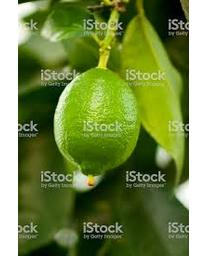lemon: (54, 68, 142, 178)
